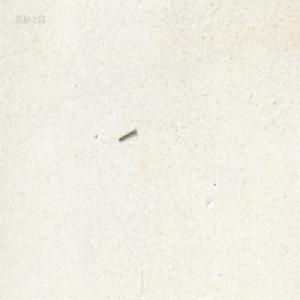Bolt: (117, 126, 135, 141)
